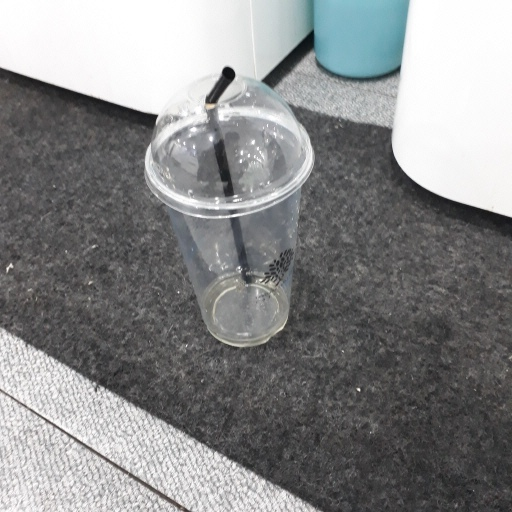Plastic_2: (138, 66, 315, 346)
